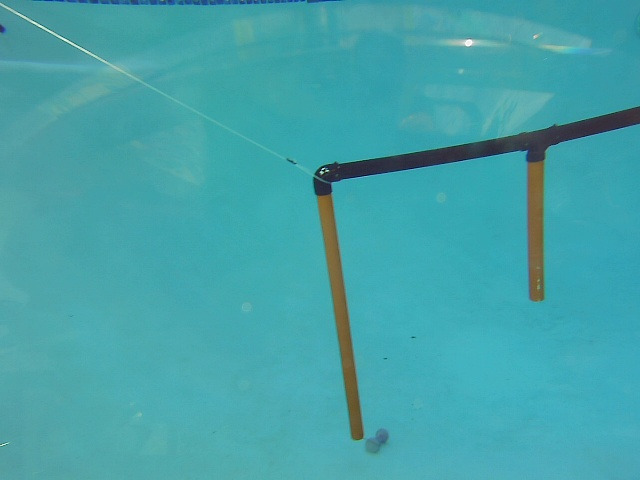Gate: (315, 191, 366, 443), (525, 149, 549, 305)
